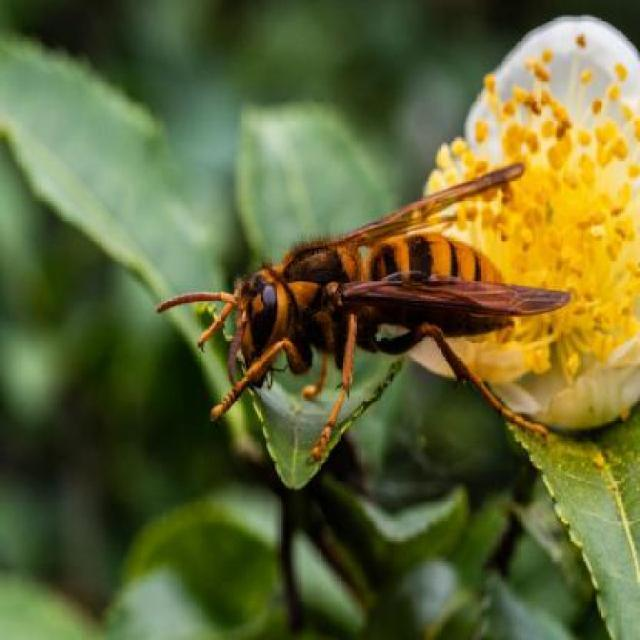Wasp: (149, 162, 580, 464)
